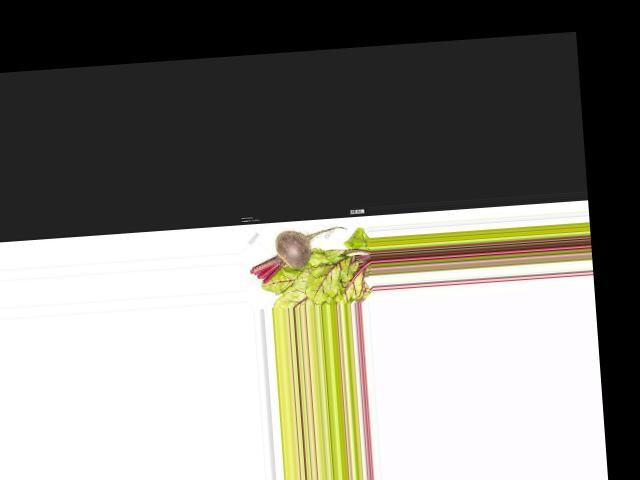beet: (247, 225, 349, 284)
